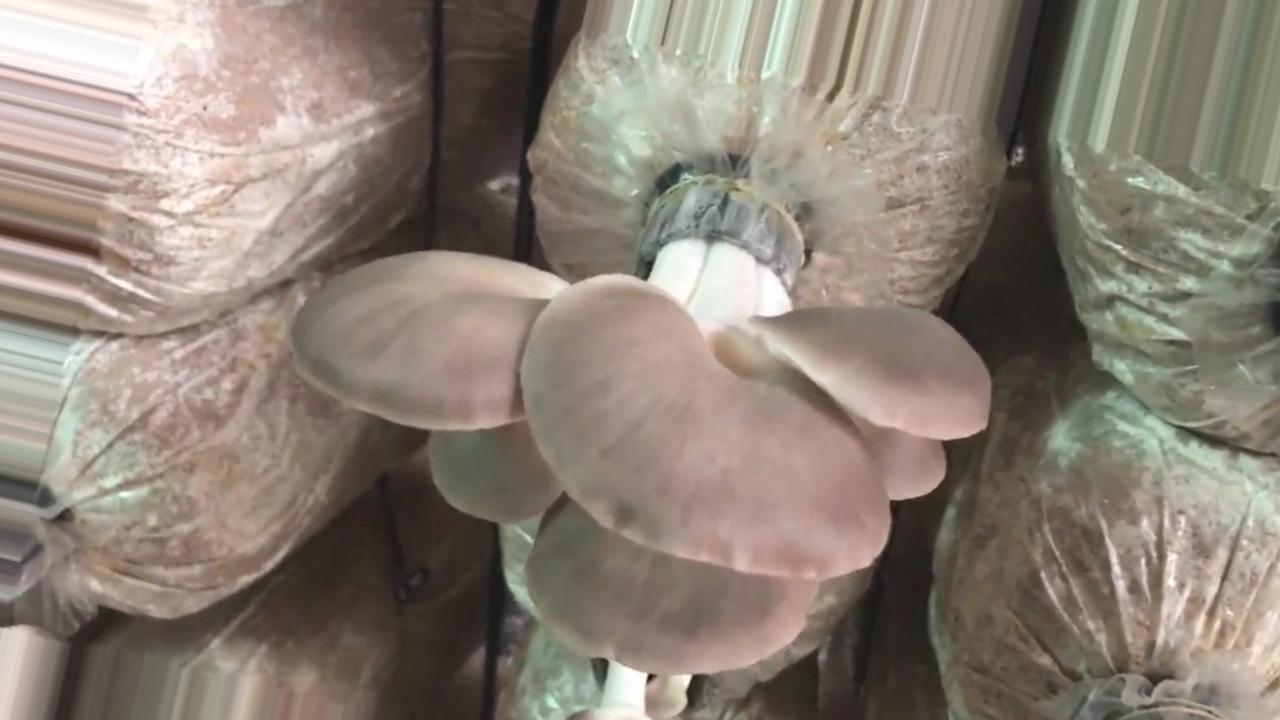nam: (292, 179, 988, 674)
